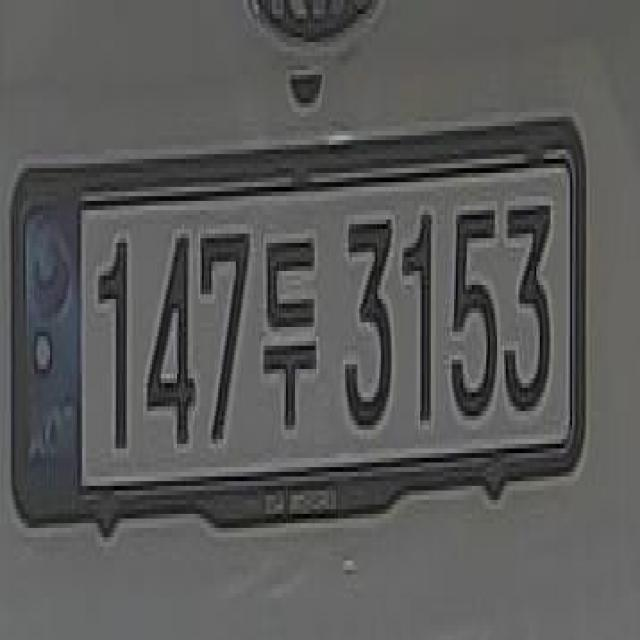illegal_plate: (9, 131, 600, 541)
